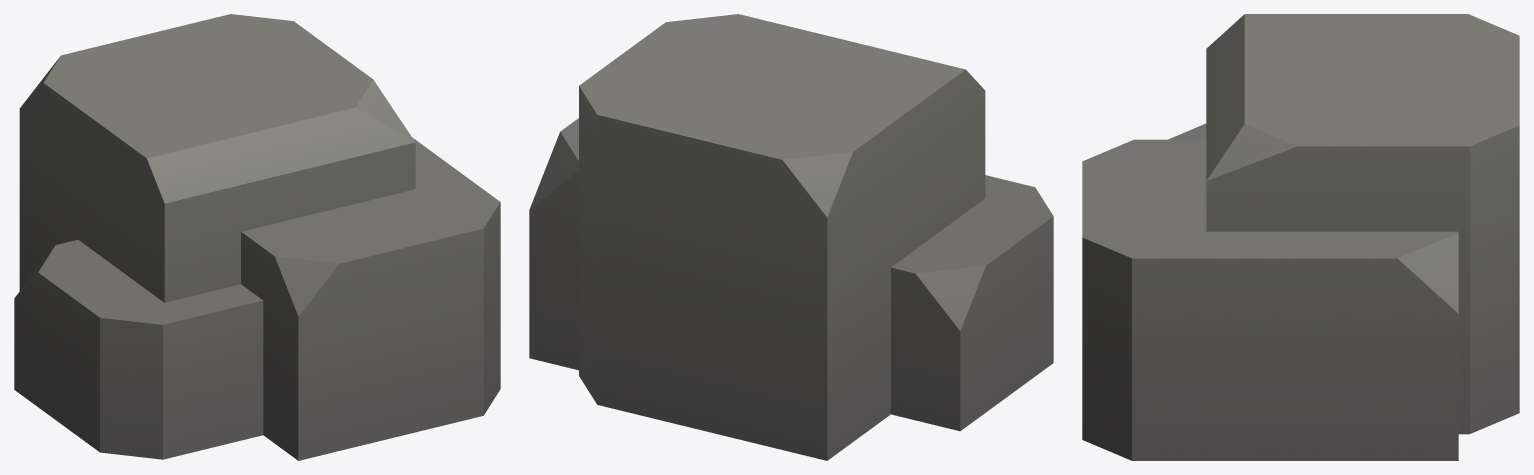
The model's file is rock2.fbx.
3 renders of one model, left to right at view 1: azimuth 30°, elevation 25°; view 2: azimuth 150°, elevation 25°; view 3: azimuth 270°, elevation 25°, orthographic. The views are drawn at different scales.
Parts seen in each view (by area): view 1: rock2; view 2: rock2; view 3: rock2.
Boxes of the visible parts, <box> form: rock2: <box>14,14,500,460</box>; rock2: <box>529,14,1053,460</box>; rock2: <box>1082,14,1519,460</box>.
Size of the model in its own units: 146 by 140 by 101.
